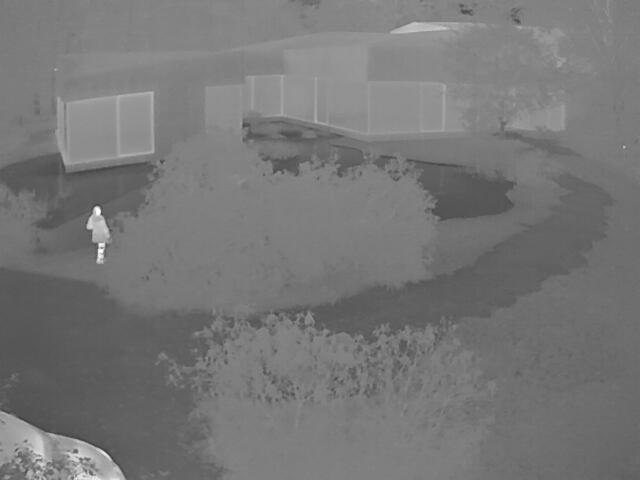person: (85, 205, 110, 263)
